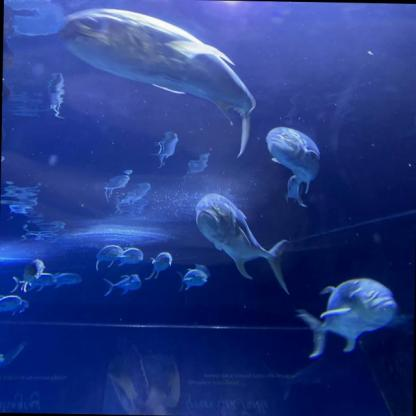fish: (59, 7, 258, 158), (194, 192, 291, 294), (296, 276, 398, 360), (263, 127, 320, 208), (104, 274, 141, 296), (95, 245, 125, 272), (12, 275, 54, 292), (148, 251, 172, 279), (178, 268, 208, 290), (23, 260, 43, 291), (46, 272, 82, 288), (0, 294, 22, 318), (0, 299, 30, 315), (118, 248, 142, 264)
